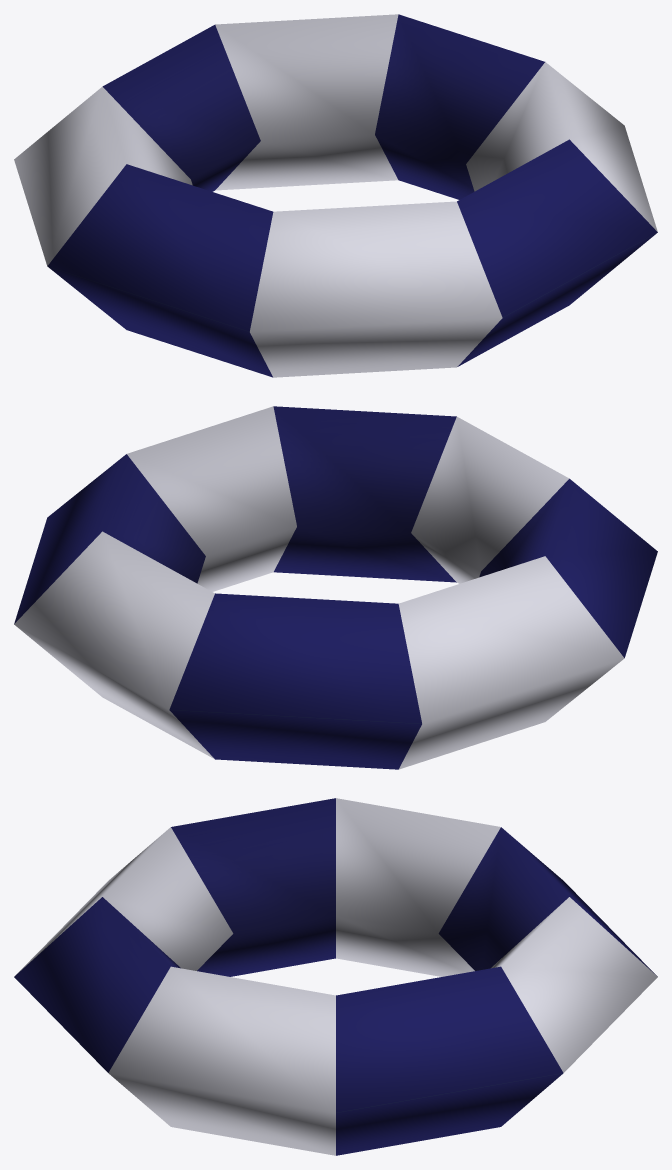
The model's file is RubbeRing_03.FBX.
3 views of the same model, one above another, from view 1: azimuth 30°, elevation 25°; view 2: azimuth 150°, elevation 25°; view 3: azimuth 270°, elevation 25° (orthographic). The views are drawn at different scales.
Visible parts, largest first — view 1: RubbeRing_03; view 2: RubbeRing_03; view 3: RubbeRing_03.
Boxes of the visible parts, x1,y1,x2,y2 form: RubbeRing_03: (14, 14, 657, 377); RubbeRing_03: (14, 406, 657, 769); RubbeRing_03: (14, 798, 657, 1155).
Size of the model in its own units: 0.4881 by 0.4881 by 0.1341.
